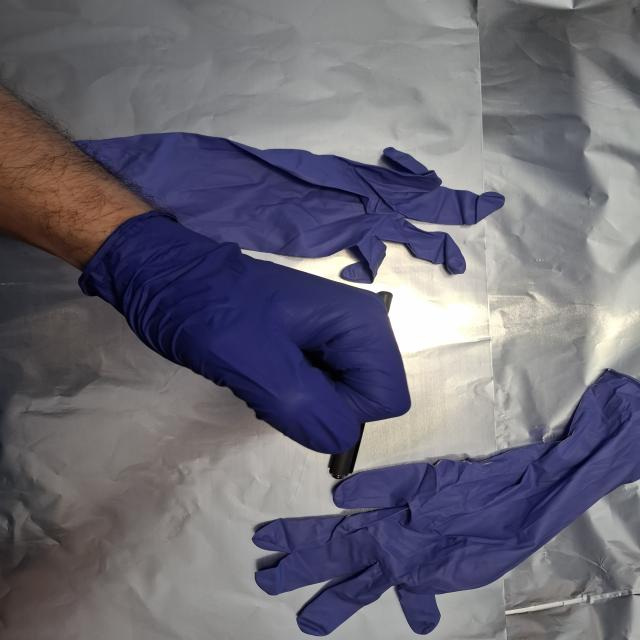glove_on: (87, 207, 416, 456)
